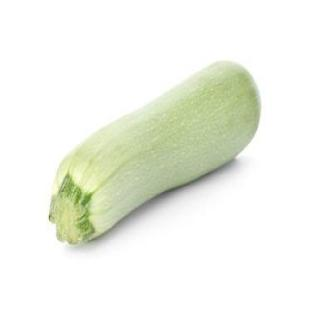Zucchini: (50, 63, 260, 243)
